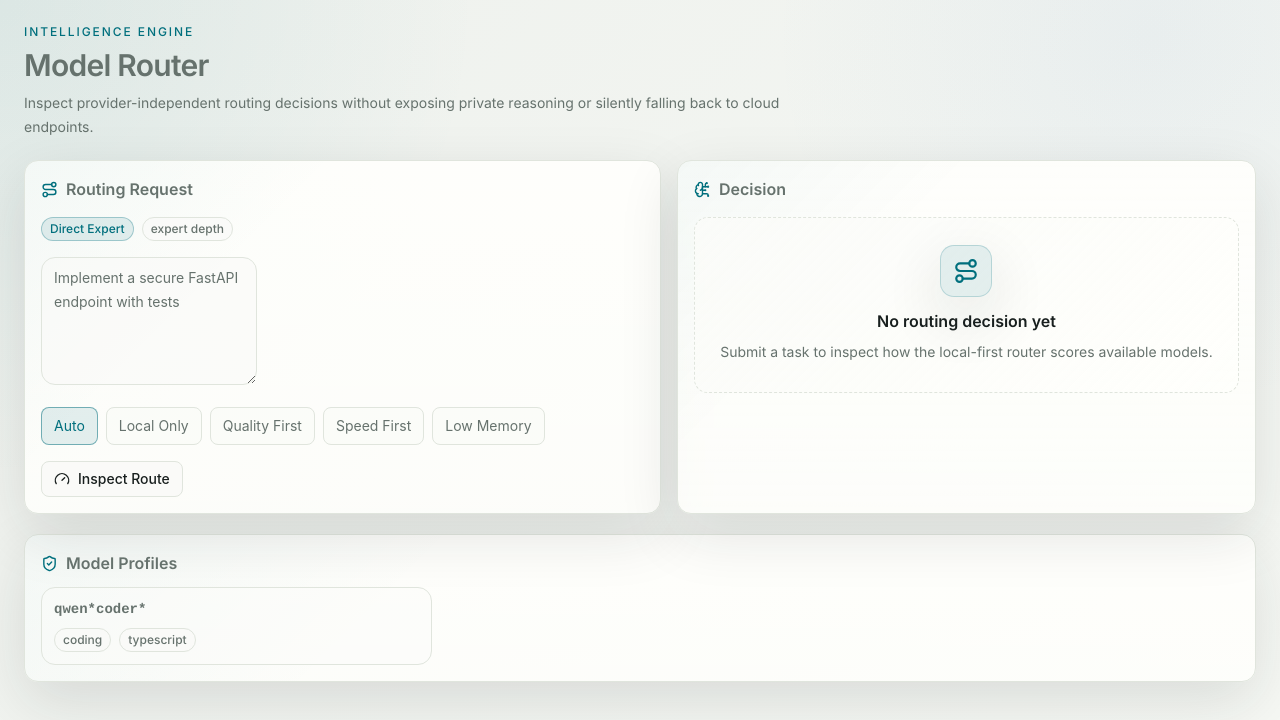
Test: IntelligencePage › loads model profiles and renders a routing decision
Check: the text "qwen*coder*" is shown, box left=54, top=602, right=146, bottom=618
Check: the text "Direct Expert" is shown, box left=41, top=217, right=134, bottom=241
Click the button "Inspect Route".
click(112, 479)  # box left=41, top=461, right=183, bottom=497
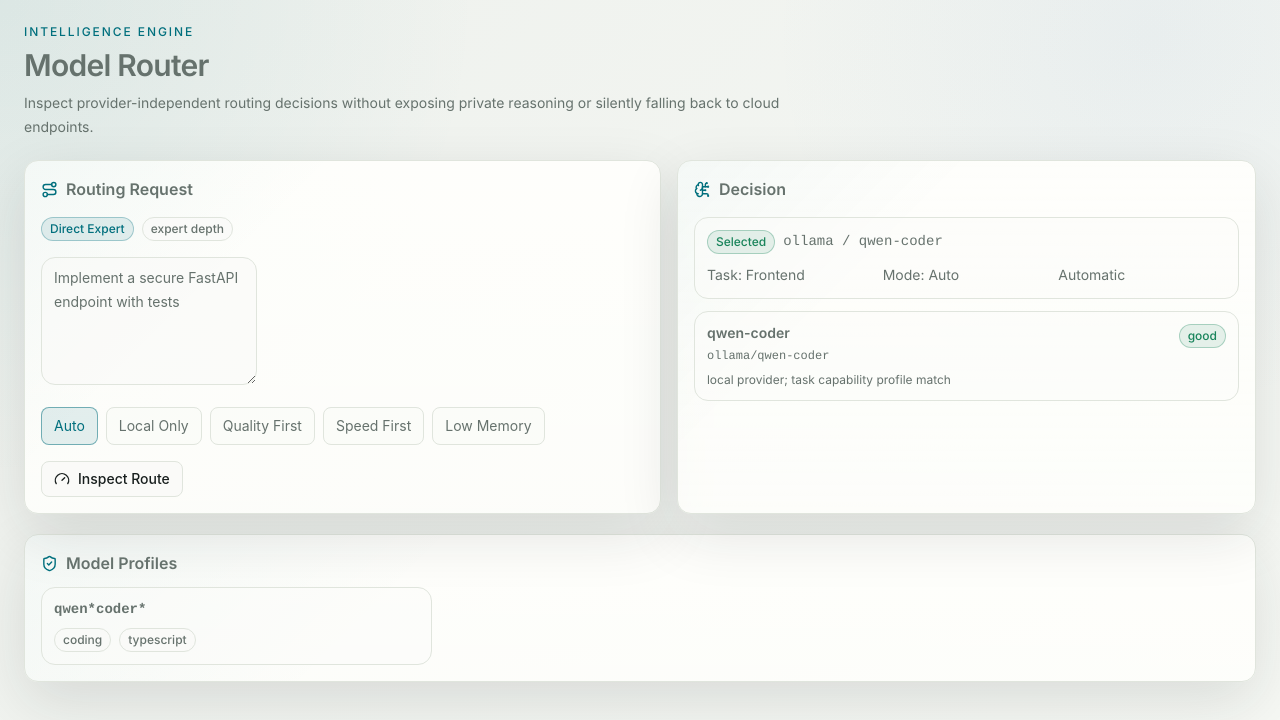
Check: the text "ollama / qwen-coder" is shown, box left=783, top=232, right=943, bottom=252
Check: the text "Task: Frontend" is shown, box left=707, top=267, right=805, bottom=284
